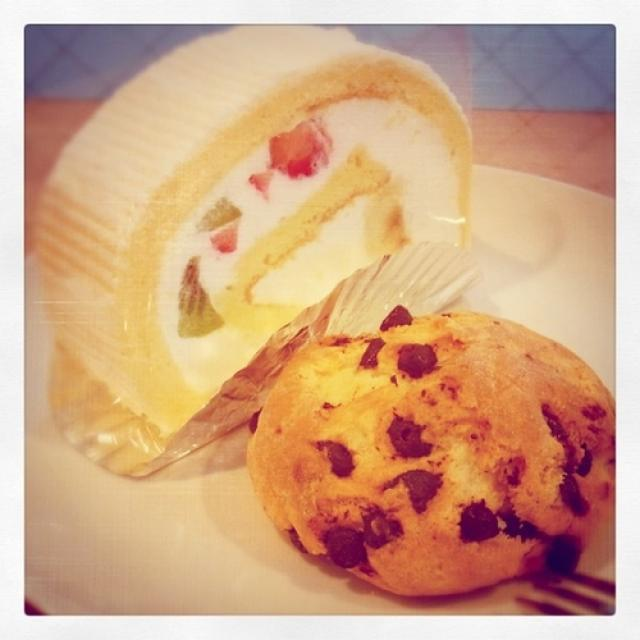面包点心: (242, 308, 609, 592)
